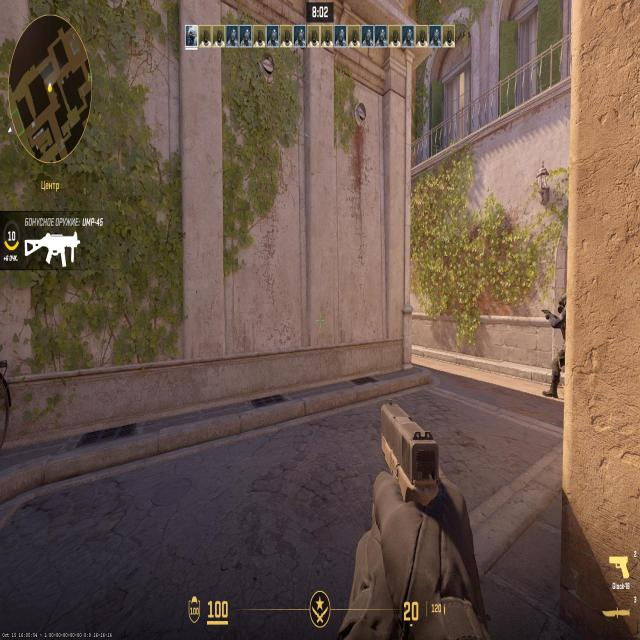CT: (557, 300, 567, 398)
CT_heat: (558, 300, 565, 312)
